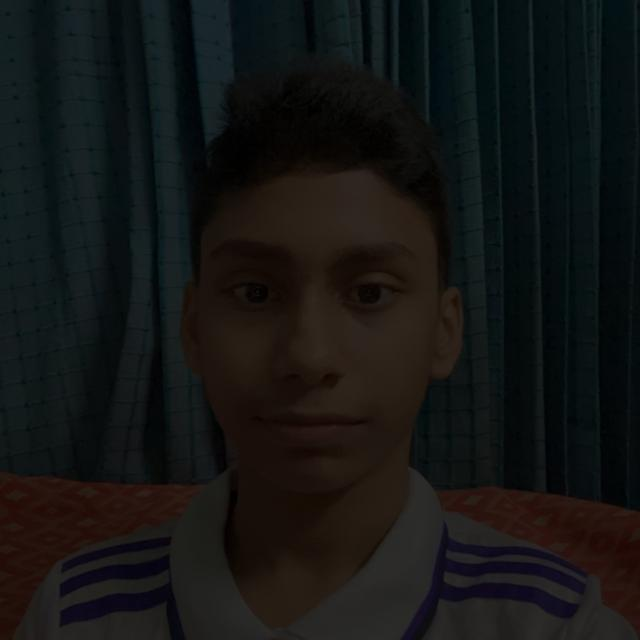natural: (136, 115, 502, 493)
